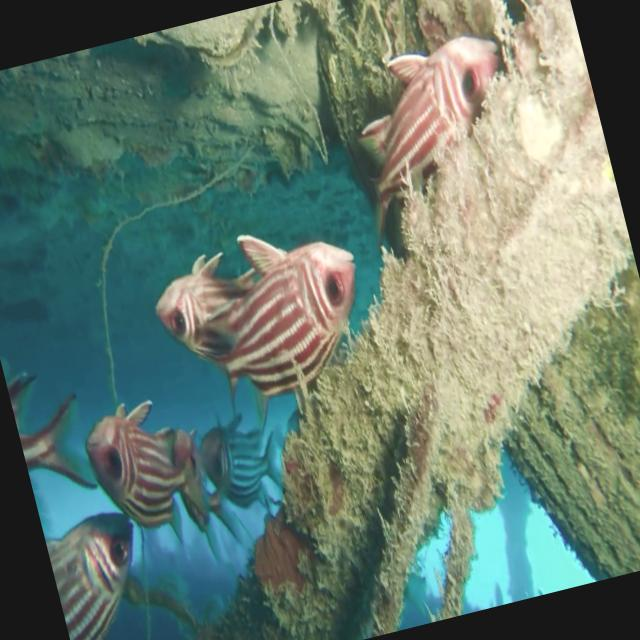Asker Baligi: (141, 207, 385, 427), (332, 24, 540, 250), (77, 384, 230, 544)
